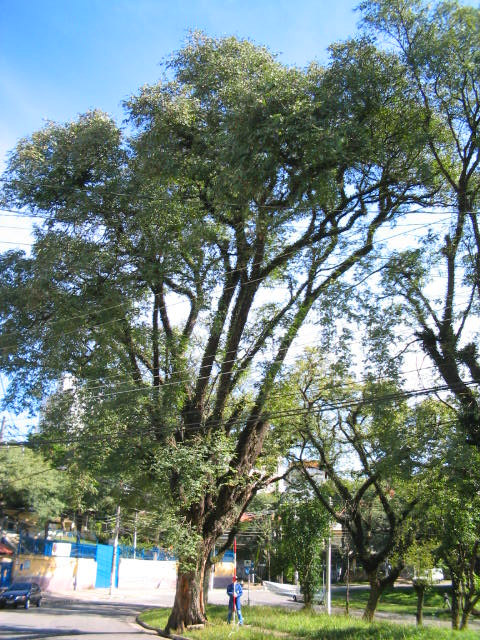crown: (1, 33, 438, 562)
stem: (154, 556, 221, 625), (353, 582, 395, 625)
stick: (225, 536, 243, 623)
tree: (1, 31, 438, 626), (286, 351, 449, 626)
